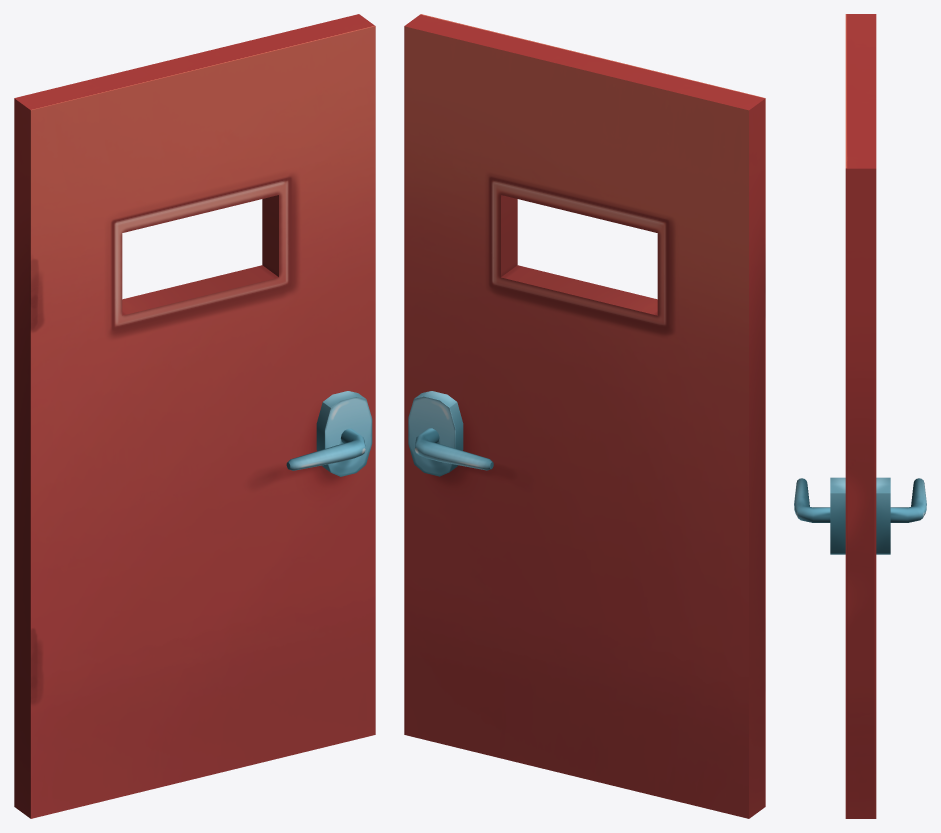
Rendered from Door 1.FBX.
3 renders of one model, left to right at view 1: azimuth 30°, elevation 25°; view 2: azimuth 150°, elevation 25°; view 3: azimuth 270°, elevation 25°, orthographic. The views are drawn at different scales.
Parts seen in each view (by area): view 1: Box165; view 2: Box165; view 3: Box165.
Part boxes in pixels (x1,y1,x2,y2): Box165: (14,14,375,818); Box165: (404,14,765,818); Box165: (794,14,926,818).
Bounding box in the file's own units: 9.26 × 18.18 × 3.37.
